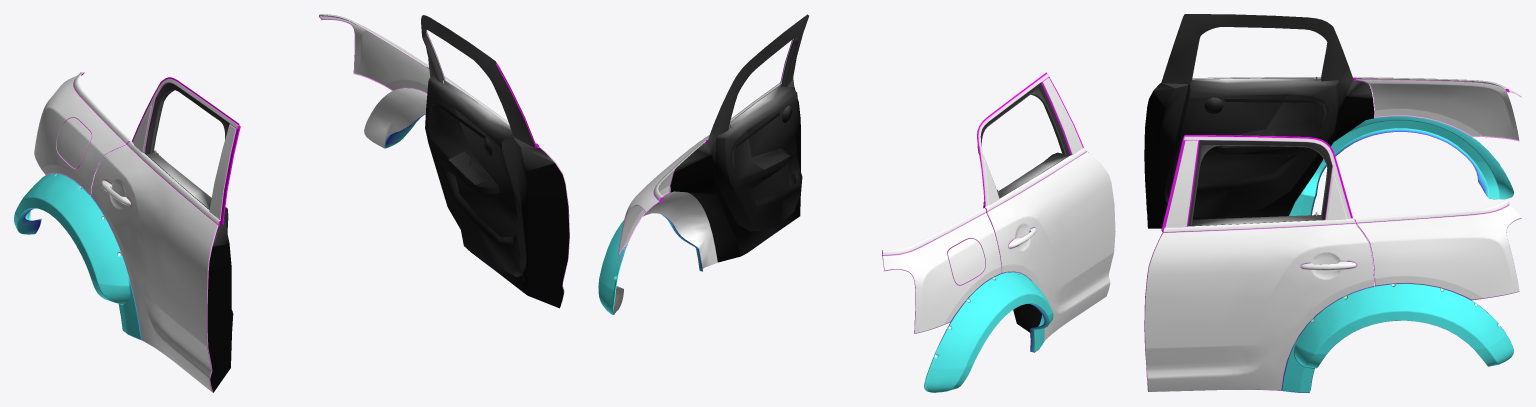
The model's file is Car_Mini_CountrymanJCW_2017_FendersR_SetE_AltE.fbx.
The picture shows the model from 3 angles, left to right: view 1: azimuth 30°, elevation 25°; view 2: azimuth 150°, elevation 25°; view 3: azimuth 270°, elevation 25°; orthographic projection. The views are drawn at different scales.
Visible parts, largest first — view 1: FendersR 6; view 2: FendersR 6; view 3: FendersR 6.
Part boxes in pixels (x1,y1,x2,y2): FendersR 6: (14, 14, 569, 392); FendersR 6: (598, 14, 1115, 392); FendersR 6: (1144, 14, 1521, 392).
Bounding box in the file's own units: 2 × 1.14 × 1.66.
